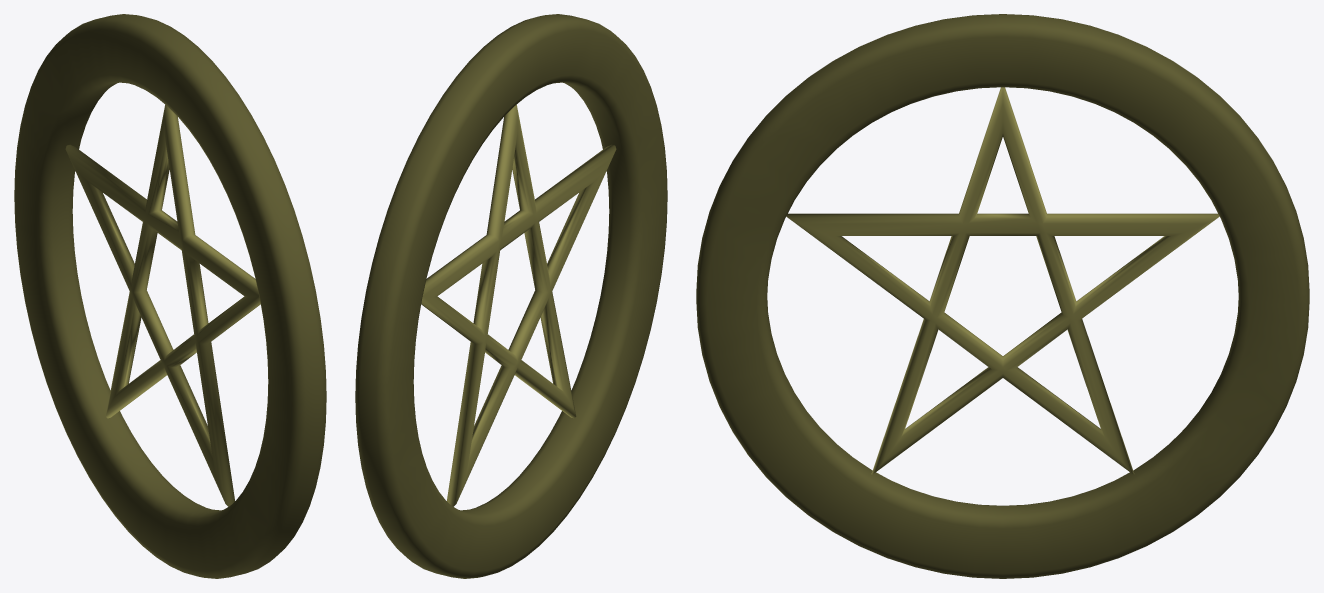
Rendered from pentacle_pentagram.glb.
3 renders of one model, left to right at view 1: azimuth 30°, elevation 25°; view 2: azimuth 150°, elevation 25°; view 3: azimuth 270°, elevation 25°, orthographic. The views are drawn at different scales.
Parts seen in each view (by area): view 1: Object_2, Object_3; view 2: Object_2, Object_3; view 3: Object_2, Object_3.
Part boxes in pixels (x1,y1,x2,y2): Object_2: [14, 14, 326, 578]; Object_3: [65, 104, 260, 506]; Object_2: [355, 14, 667, 578]; Object_3: [421, 104, 616, 506]; Object_2: [696, 14, 1309, 578]; Object_3: [786, 87, 1219, 474].
Bounding box in the file's own units: 0.2001 × 2.99 × 2.99.
